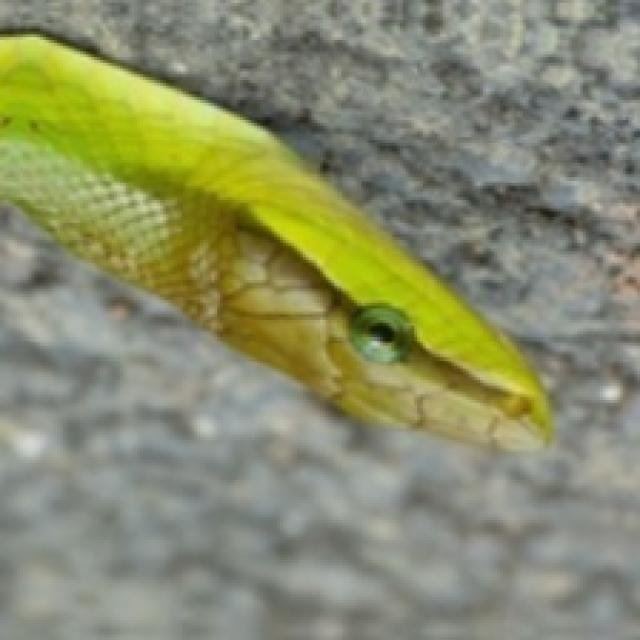red-tailed green ratsnake: (0, 34, 551, 449)
